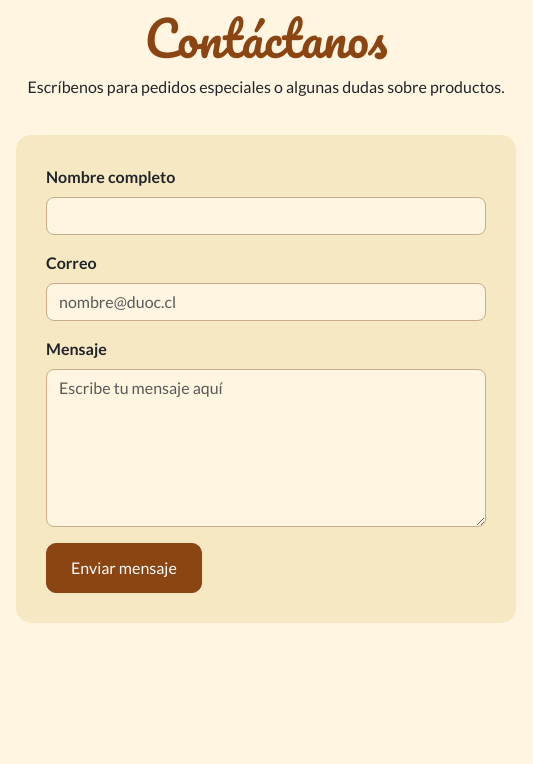
Scenario: Página Contacto › exige el nombre y el mensaje al enviar vacío
What coordinates should you click on to do the following:
click the button "Enviar mensaje"
I would click on:
 (124, 568)
Its box is [46, 543, 202, 593].
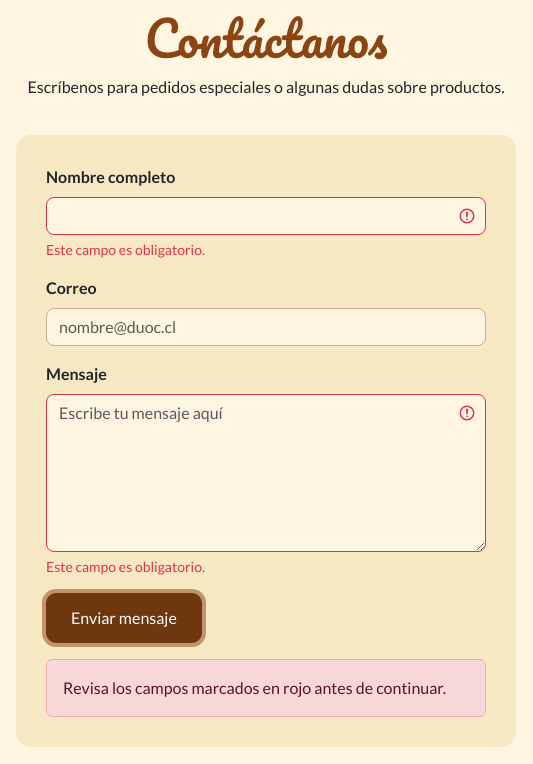
Check: the text "Este campo es obligatorio." is shown 2 times, box [46, 241, 205, 258]; [46, 558, 205, 575]
Check: the message shows "Revisa los campos marcados en rojo", box [63, 678, 446, 697]
